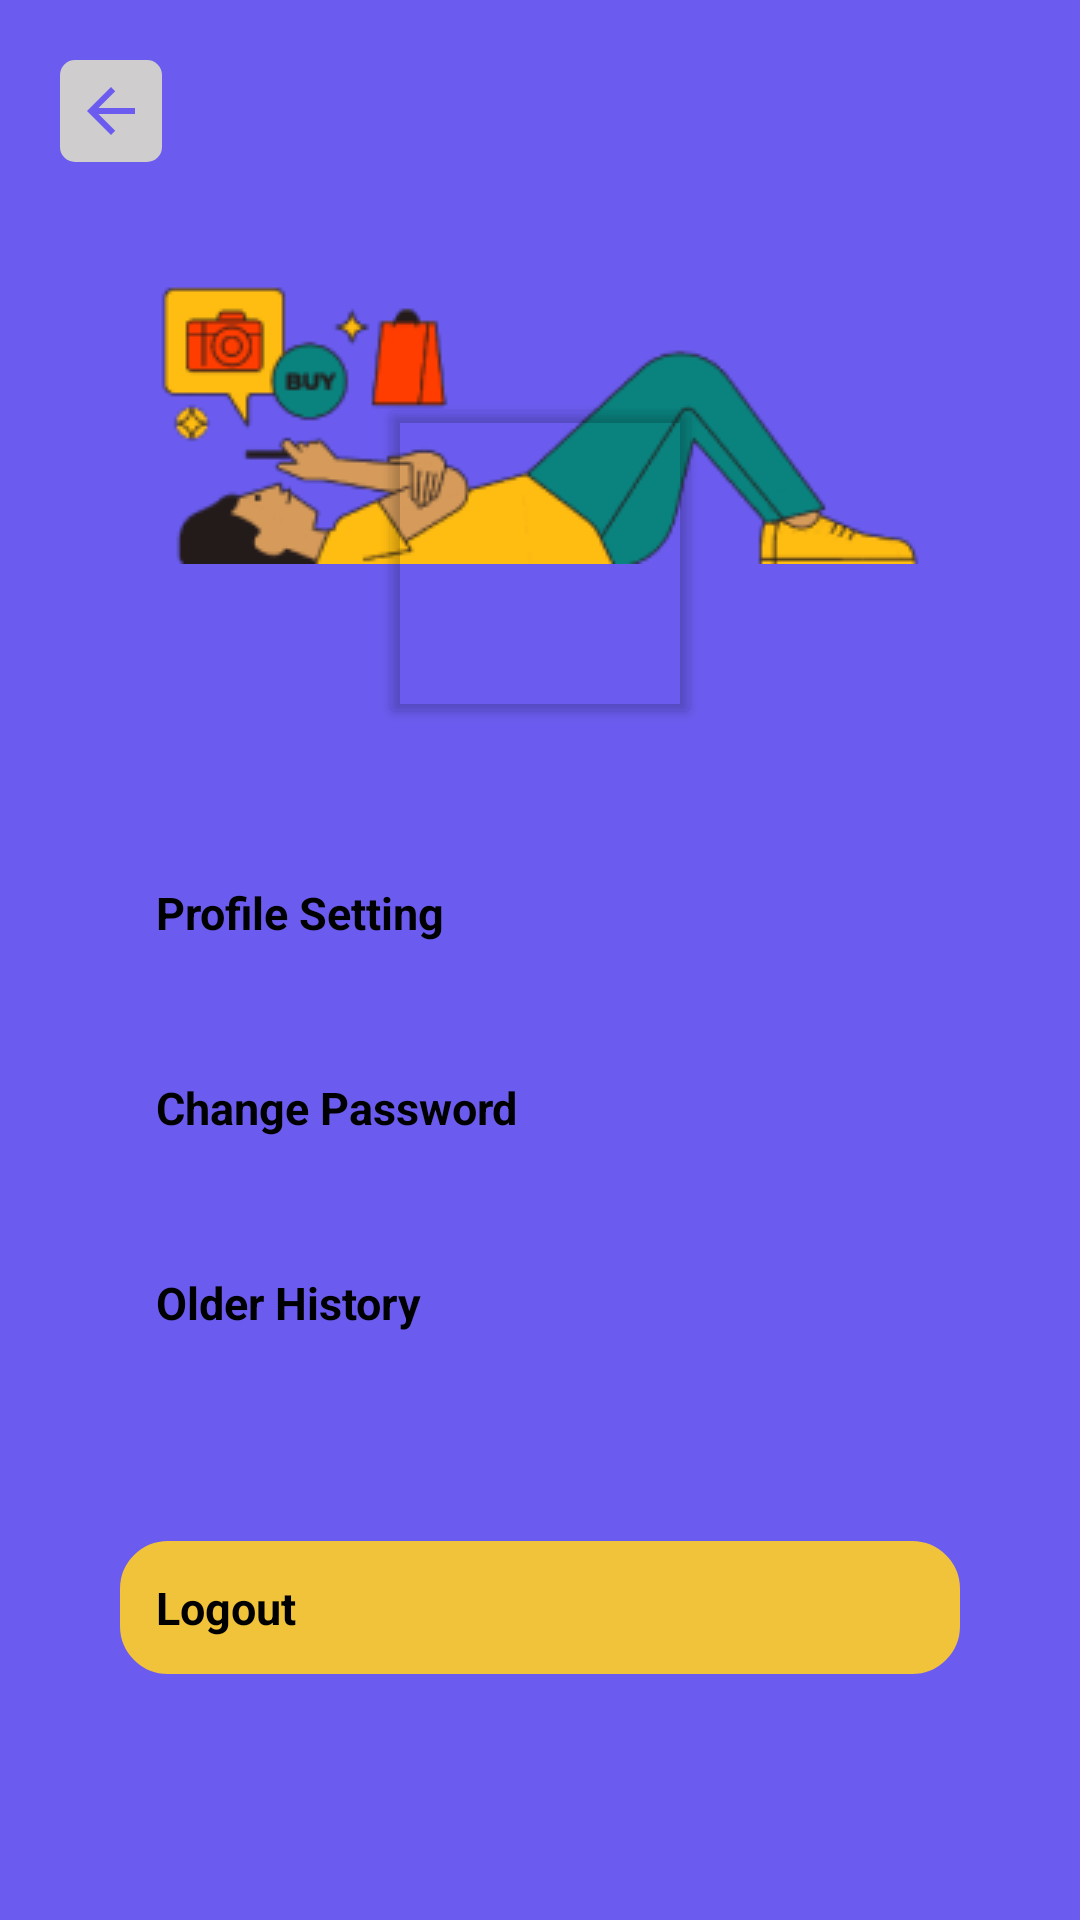

Screen size 1080 × 1920. Icon name, then its box in pixels as rect(x1, y1, x2, y2):
arrow back: rect(60, 60, 162, 162)
